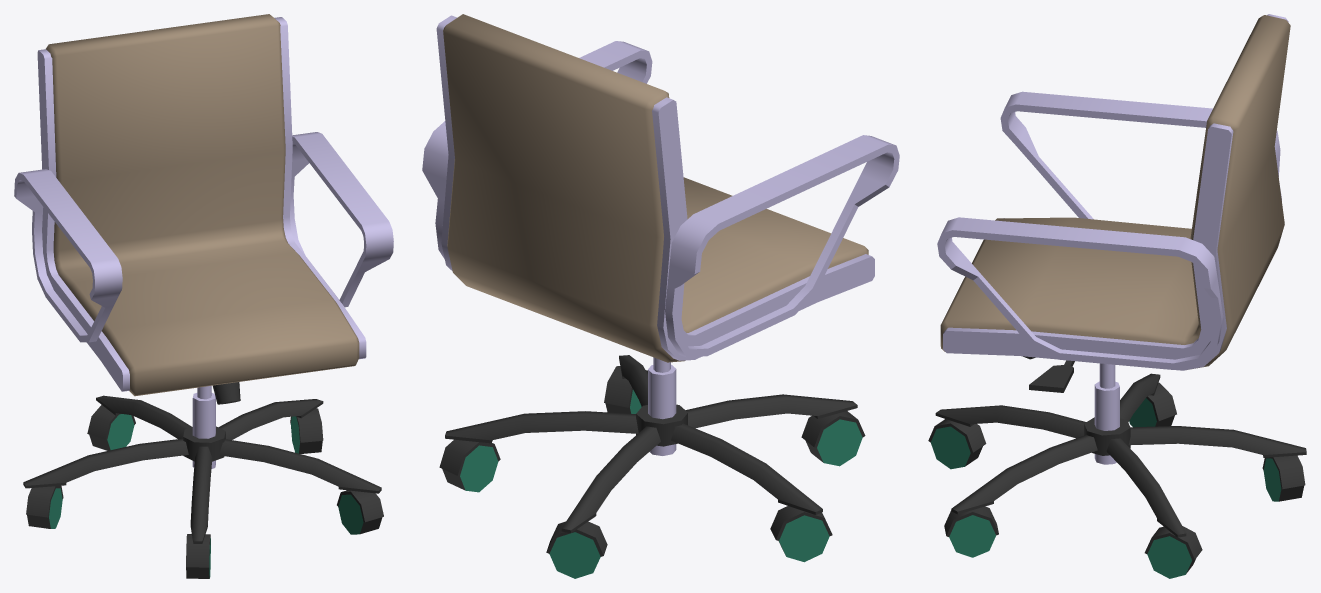
Rendered from chair1.fbx.
3 views of the same model, side by side, from view 1: azimuth 30°, elevation 25°; view 2: azimuth 150°, elevation 25°; view 3: azimuth 270°, elevation 25° (orthographic). The views are drawn at different scales.
Parts seen in each view (by area): view 1: OfficeChair_Modern.012; view 2: OfficeChair_Modern.012; view 3: OfficeChair_Modern.012.
Part boxes in pixels (x1,y1,x2,y2): OfficeChair_Modern.012: [14, 14, 393, 578]; OfficeChair_Modern.012: [422, 14, 899, 578]; OfficeChair_Modern.012: [928, 14, 1306, 578].
Size of the model in its own units: 167 by 212 by 161.
